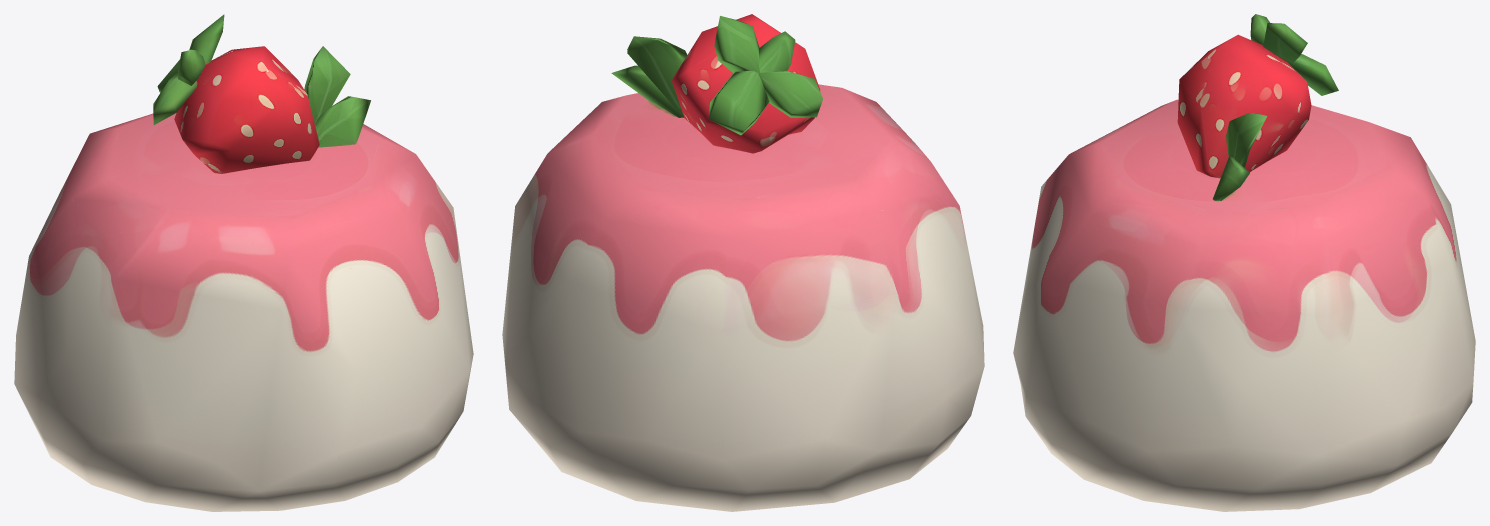
Rendered from source.fbx.
3 renders of one model, left to right at view 1: azimuth 30°, elevation 25°; view 2: azimuth 150°, elevation 25°; view 3: azimuth 270°, elevation 25°, orthographic. The views are drawn at different scales.
Visible parts, largest first — view 1: Mesh_0; view 2: Mesh_0; view 3: Mesh_0.
Boxes of the visible parts, bbox=[...] form: Mesh_0: bbox=[14, 14, 473, 511]; Mesh_0: bbox=[502, 14, 984, 511]; Mesh_0: bbox=[1013, 14, 1475, 511].
Bounding box in the file's own units: 18.87 × 18 × 18.78.
1 material, 1 textured.
